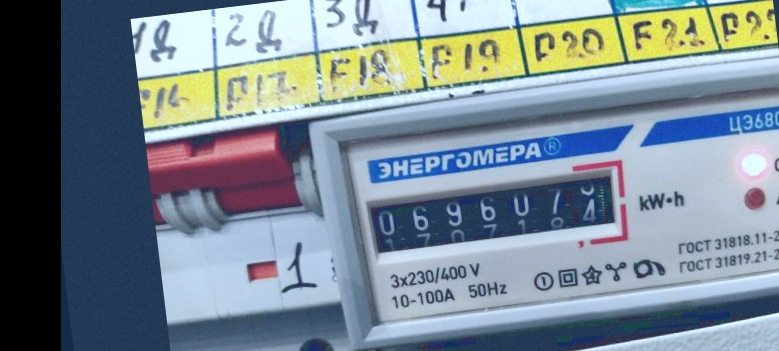0: (511, 187, 532, 219), (377, 207, 397, 237)
4: (579, 194, 599, 225)
6: (478, 192, 498, 223), (411, 202, 431, 232)
7: (545, 184, 567, 217)
9: (444, 198, 465, 228)
screen: (352, 155, 637, 271)
